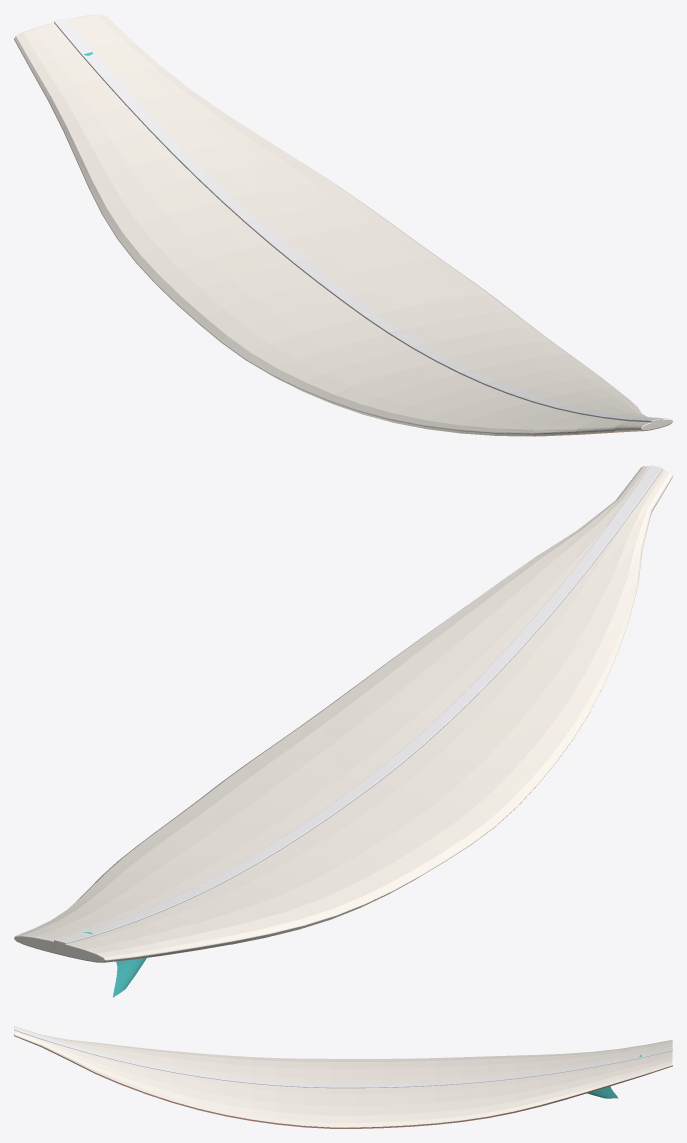
File: beach_surfboard.glb
3 renders of one model, top to bottom at view 1: azimuth 30°, elevation 25°; view 2: azimuth 150°, elevation 25°; view 3: azimuth 270°, elevation 25°, orthographic. The views are drawn at different scales.
Visible parts, largest first — view 1: beach_surfboard_board, beach_surfboard_stringer; view 2: beach_surfboard_board, beach_surfboard_stringer; view 3: beach_surfboard_board, beach_surfboard_stringer, beach_surfboard_fin.
Part boxes in pixels (<box>): beach_surfboard_board: <box>14,14,672,436</box>; beach_surfboard_stringer: <box>54,18,662,423</box>; beach_surfboard_board: <box>14,466,672,962</box>; beach_surfboard_stringer: <box>54,465,662,945</box>; beach_surfboard_board: <box>14,1026,672,1128</box>; beach_surfboard_stringer: <box>14,1026,672,1088</box>; beach_surfboard_fin: <box>587,1086,618,1098</box>.
Size of the model in its own units: 0.461 by 0.2292 by 1.9.
